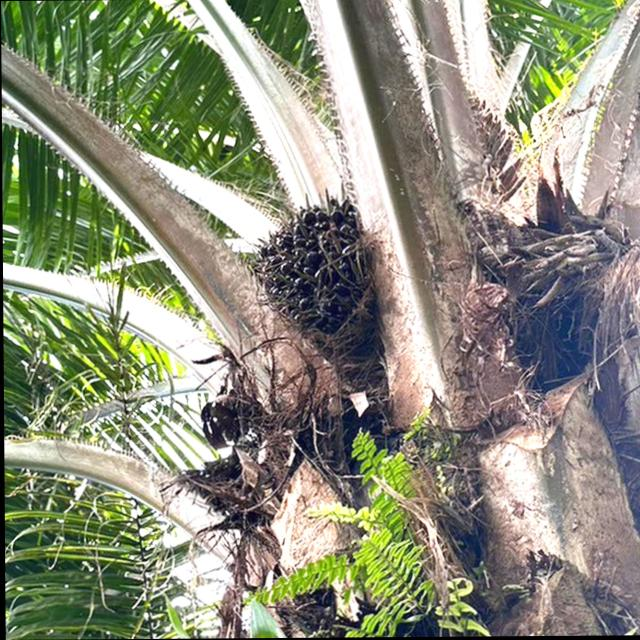almost: (249, 187, 384, 353)
